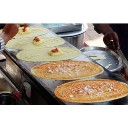dosa: (52, 78, 128, 102), (31, 61, 105, 80), (17, 49, 84, 61), (9, 38, 64, 51)
